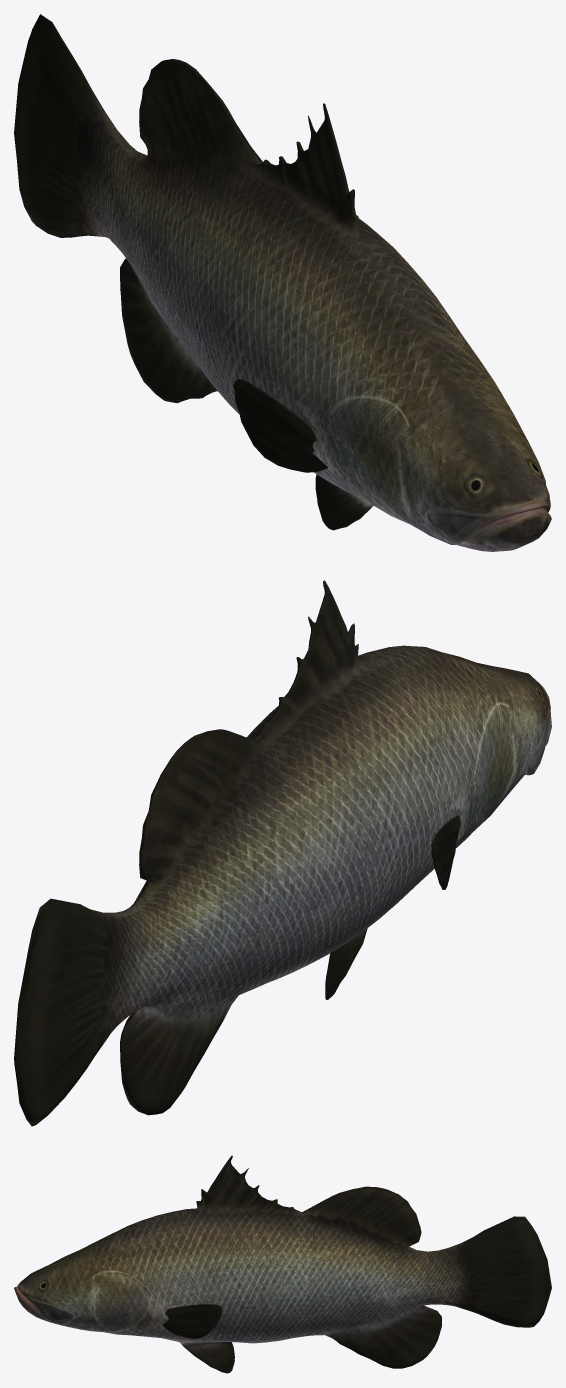
Rendered from barramundi.glb.
3 renders of one model, top to bottom at view 1: azimuth 30°, elevation 25°; view 2: azimuth 150°, elevation 25°; view 3: azimuth 270°, elevation 25°, orthographic. The views are drawn at different scales.
Parts seen in each view (by area): view 1: BarramundiFish; view 2: BarramundiFish; view 3: BarramundiFish.
Boxes of the visible parts, left/top/right/bottom form: BarramundiFish: left=14, top=14, right=551, bottom=551; BarramundiFish: left=14, top=580, right=551, bottom=1126; BarramundiFish: left=14, top=1155, right=551, bottom=1373.
Bounding box in the file's own units: 0.1429 × 0.2875 × 0.6431.
Materials: 1 (1 with a texture image).
